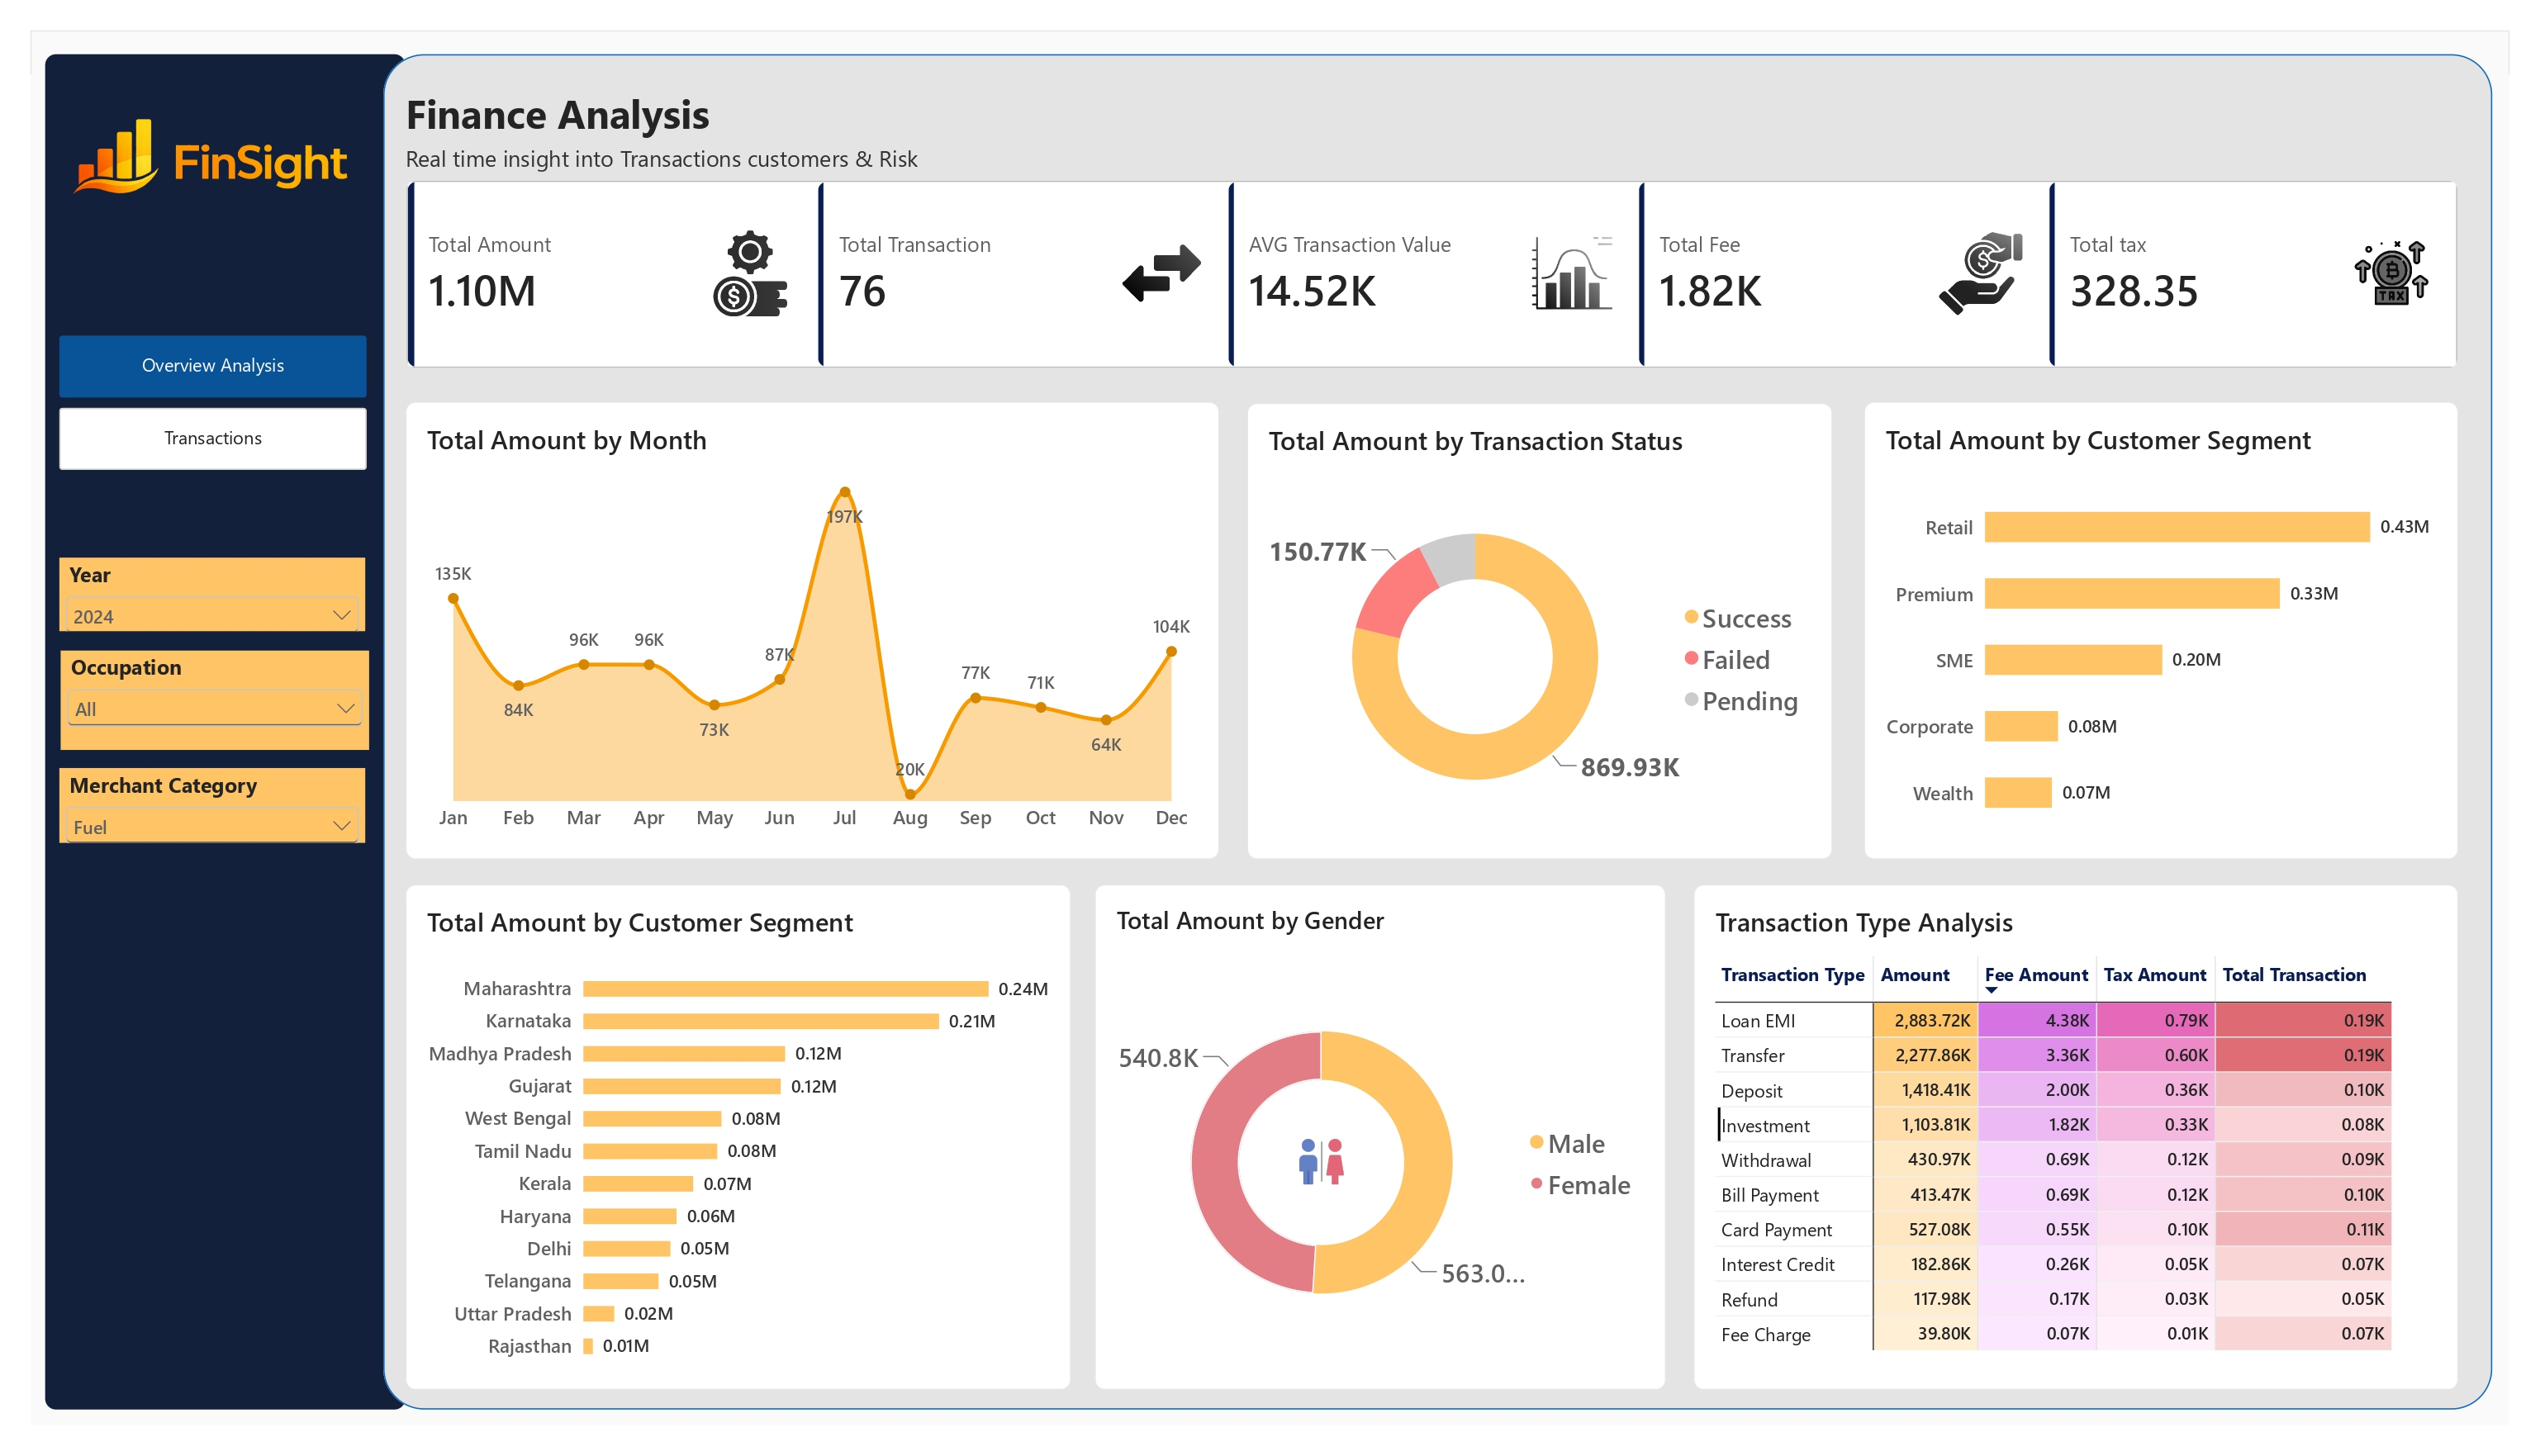

The page's visual inventory and layout, read from the dashboard file:
{"tool":"powerbi","page":{"name":"Overview Analysis","canvas":[1920,1080],"ordinal":0},"visuals":[{"type":"shape","box":[10.9,18.1,278.7,1049.6],"z":0},{"type":"shape","box":[273.3,18.1,1634.1,1049.6],"z":1000},{"type":"image","box":[22.3,54,238.2,87.5],"z":2000},{"type":"cardVisual","fields":{"Data":["finance_transactions.Dashboard Title"]},"box":[290.3,18.6,445.2,115.8],"z":3000},{"type":"cardVisual","fields":{"Data":["finance_transactions.Total Amount","finance_transactions.Total Transaction","finance_transactions.AVG Transaction Value","finance_transactions.Total Fee","finance_transactions.Total tax"]},"box":[290.3,115.4,1591,147],"z":4000},{"type":"slicer","fields":{"Values":["Calender Table.Year"]},"box":[22.3,407.5,237.1,57.9],"z":5000},{"type":"lineChart","title":"Total Amount by Month","fields":{"Category":["Calender Table.Month"],"Y":["Sum(finance_transactions.amount)"]},"box":[290.3,286.6,630.8,355.4],"z":6000},{"type":"donutChart","title":"Total Amount by Transaction Status","fields":{"Category":["finance_transactions.transaction_status"],"Y":["Sum(finance_transactions.amount)"]},"box":[941.6,288.4,454,353.6],"z":7000},{"type":"clusteredBarChart","title":"Total Amount by Customer Segment","fields":{"Category":["customers.customer_segment"],"Y":["Sum(finance_transactions.amount)"]},"box":[1419.8,286.6,461.5,355.4],"z":8000},{"type":"donutChart","title":"Total Amount by Gender","fields":{"Category":["customers.gender"],"Y":["Sum(finance_transactions.amount)"]},"box":[824.3,660.6,442.9,392.6],"z":9000},{"type":"pivotTable","title":"Transaction Type Analysis","fields":{"Rows":["finance_transactions.transaction_type"],"Values":["Sum(finance_transactions.amount)","Sum(finance_transactions.fee_amount)","Sum(finance_transactions.tax_amount)","finance_transactions.Total Transaction"]},"box":[1287.7,660.6,593.6,392.6],"z":10000},{"type":"slicer","fields":{"Values":["customers.occupation"]},"box":[22.8,479.6,238.9,77.8],"z":11000},{"type":"slicer","fields":{"Values":["finance_transactions.merchant_category"]},"box":[22.3,571.3,237.1,57.9],"z":12000},{"type":"clusteredBarChart","title":"Total Amount by Customer Segment","fields":{"Category":["customers.state"],"Y":["Sum(finance_transactions.amount)"]},"box":[290.3,660.6,515.5,392.6],"z":13000},{"type":"pageNavigator","box":[22.3,236.3,238.2,104.2],"z":13001}]}

Visuals, with their boxes on the page's 1920x1080 design canvas (x1, y1, x2, y2). These are canvas units, not pixel positions in the 2540x1456 screenshot, which may show the page scaled, cropped or inside an application window:
shape: 11:18:290:1068
shape: 273:18:1907:1068
image: 22:54:260:142
cardVisual - finance_transactions.Dashboard Title: 290:19:736:134
cardVisual - finance_transactions.Total Amount x finance_transactions.Total Transaction: 290:115:1881:262
slicer - Calender Table.Year: 22:408:259:465
"Total Amount by Month" lineChart: 290:287:921:642
"Total Amount by Transaction Status" donutChart: 942:288:1396:642
"Total Amount by Customer Segment" clusteredBarChart: 1420:287:1881:642
"Total Amount by Gender" donutChart: 824:661:1267:1053
"Transaction Type Analysis" pivotTable: 1288:661:1881:1053
slicer - customers.occupation: 23:480:262:557
slicer - finance_transactions.merchant_category: 22:571:259:629
"Total Amount by Customer Segment" clusteredBarChart: 290:661:806:1053
pageNavigator: 22:236:260:340
